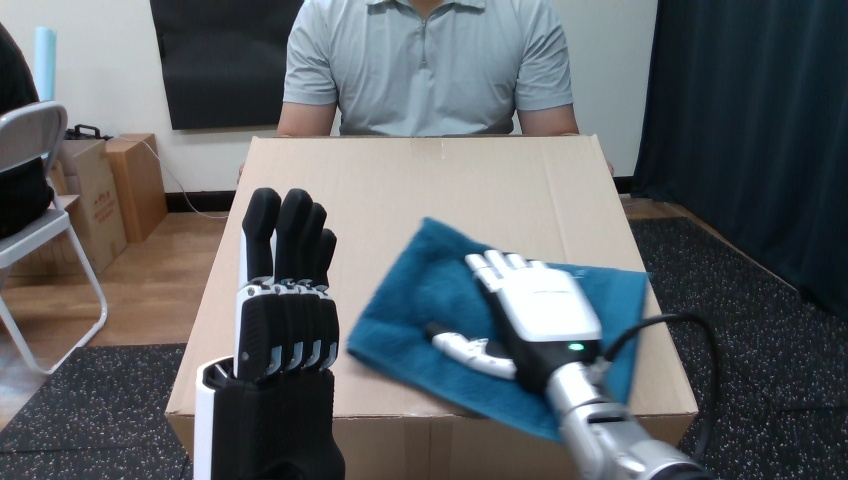left robot hand: (426, 249, 718, 479), (194, 188, 344, 478)
